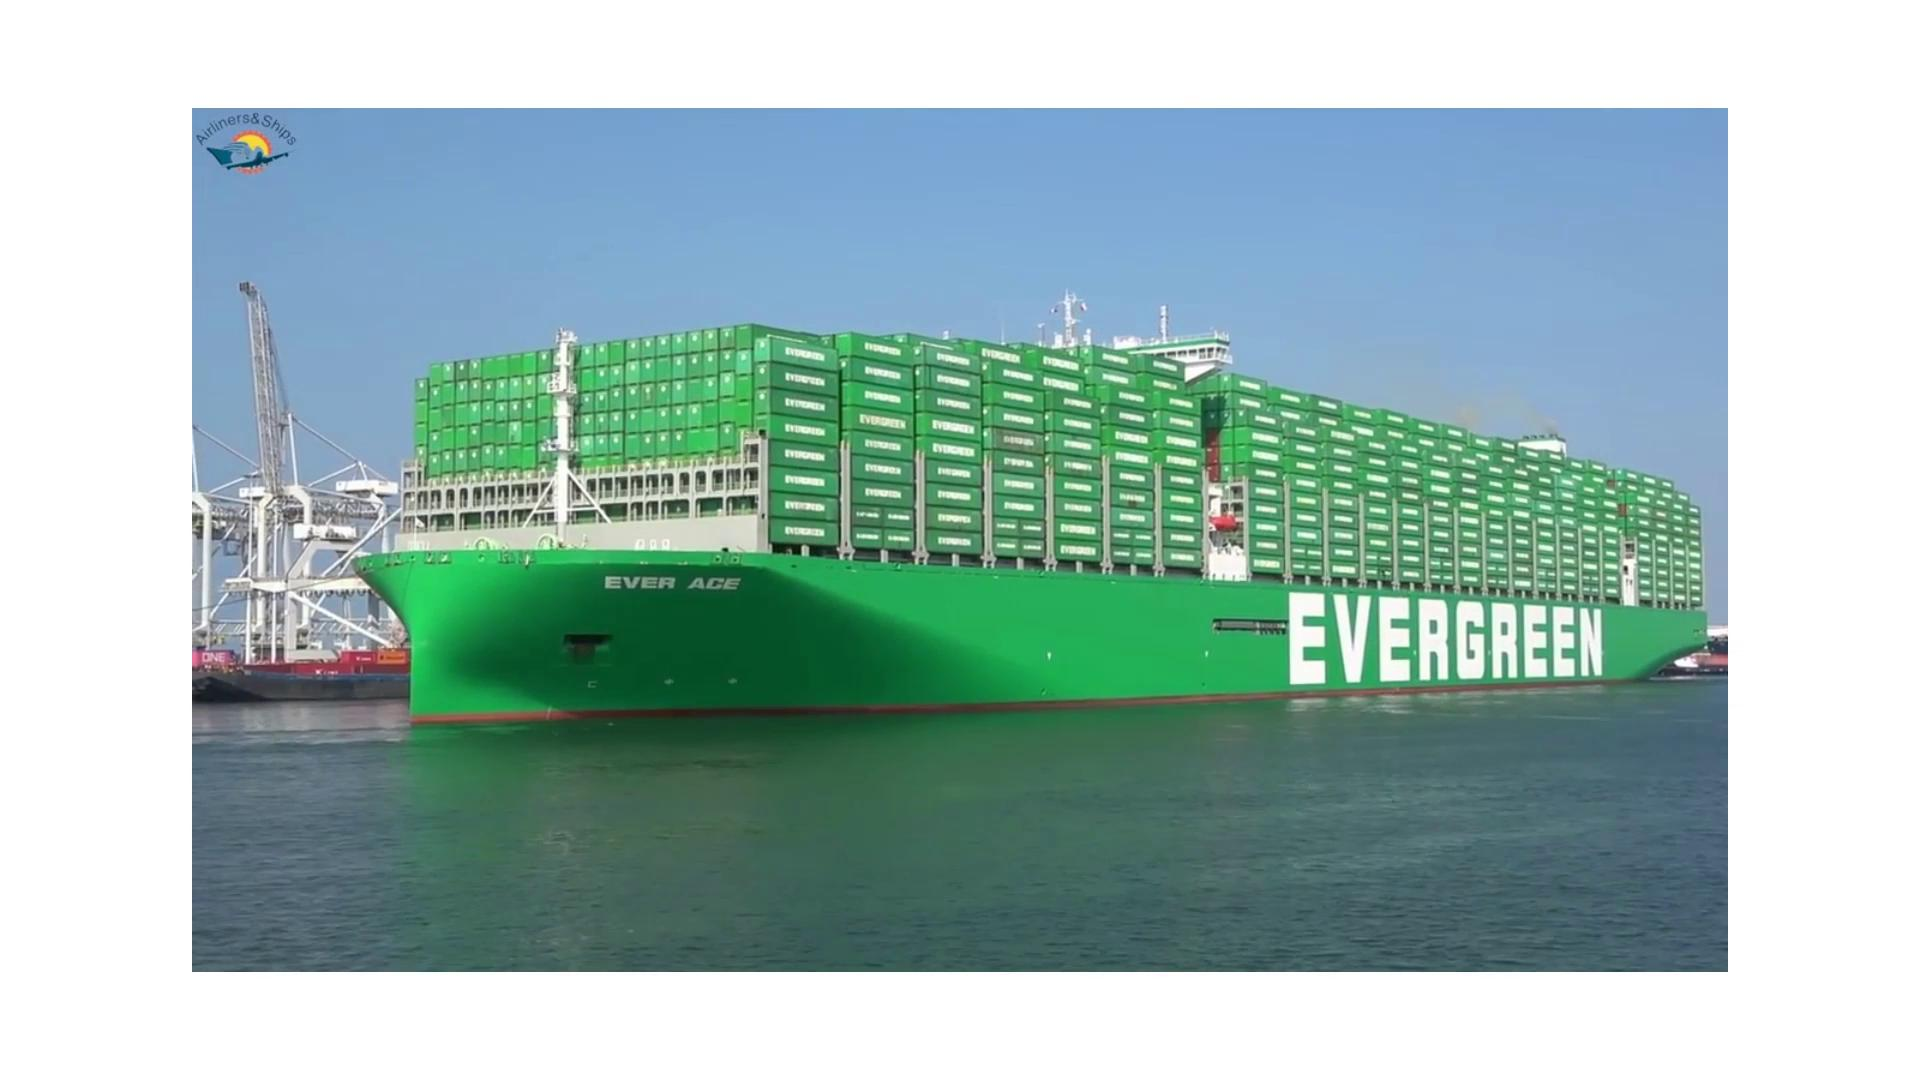OCR: (1257, 582, 1618, 704), (585, 546, 766, 597)
